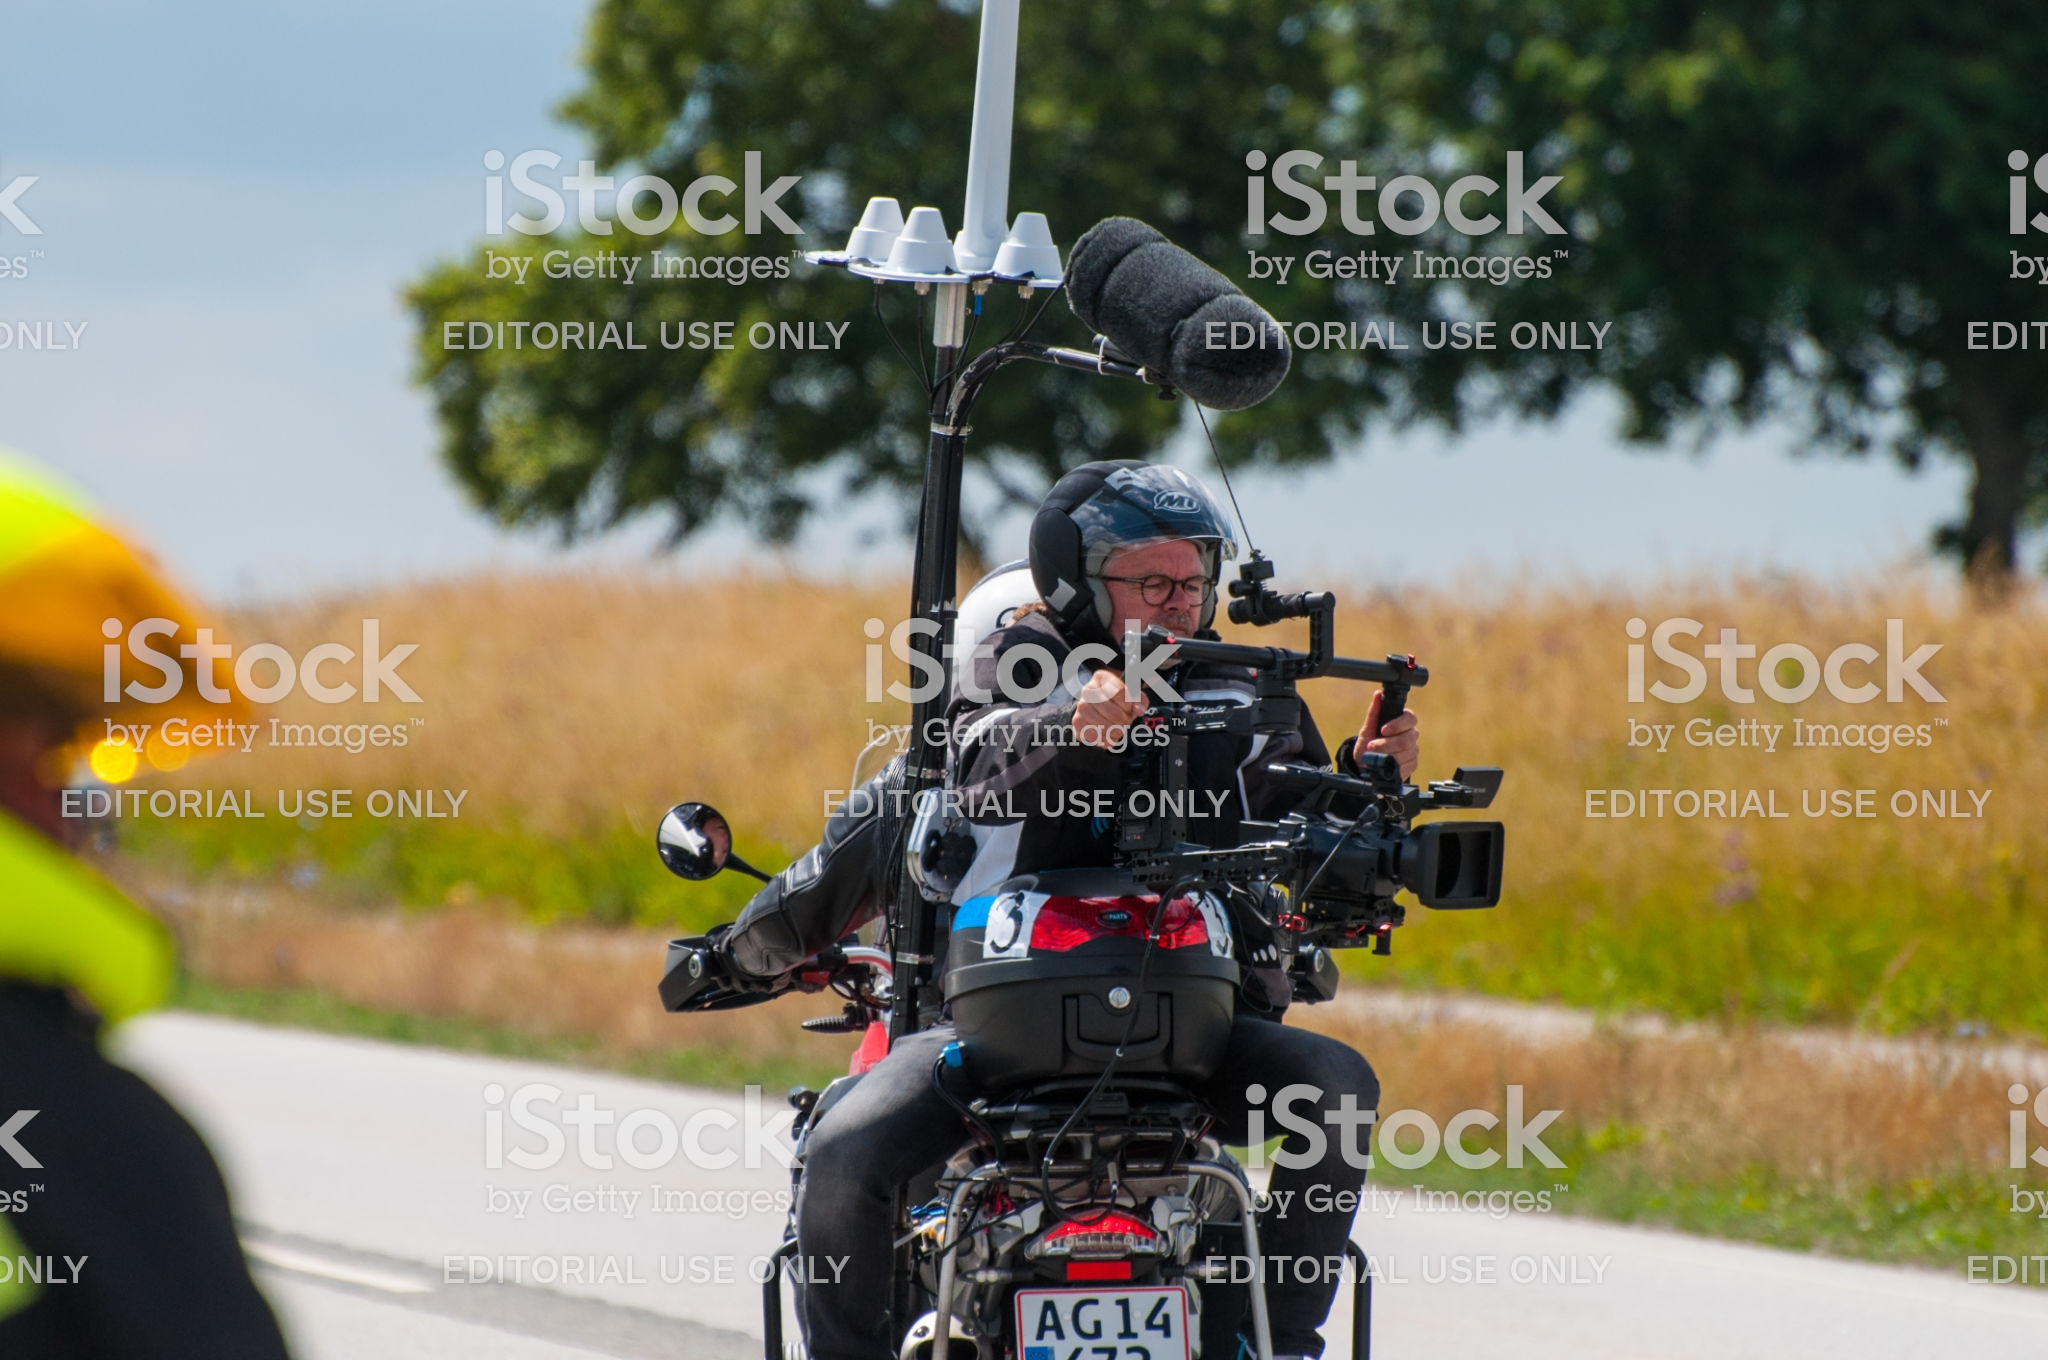helmet: (1029, 458, 1227, 669)
